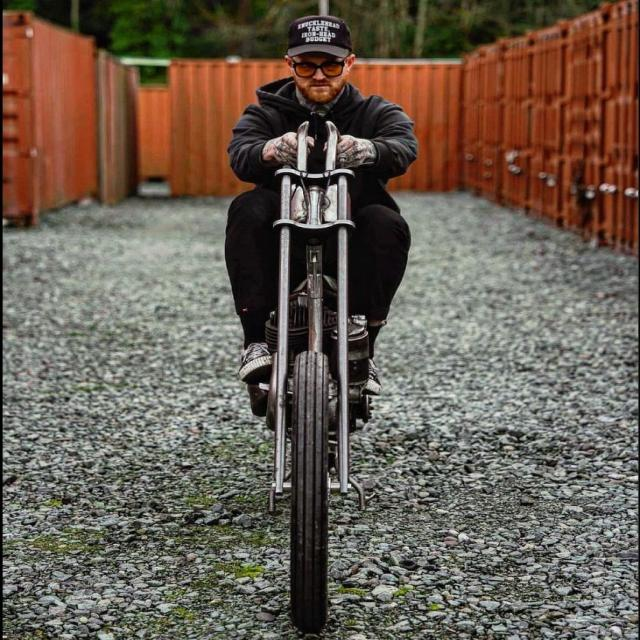illegal_helmet: (281, 11, 360, 107)
